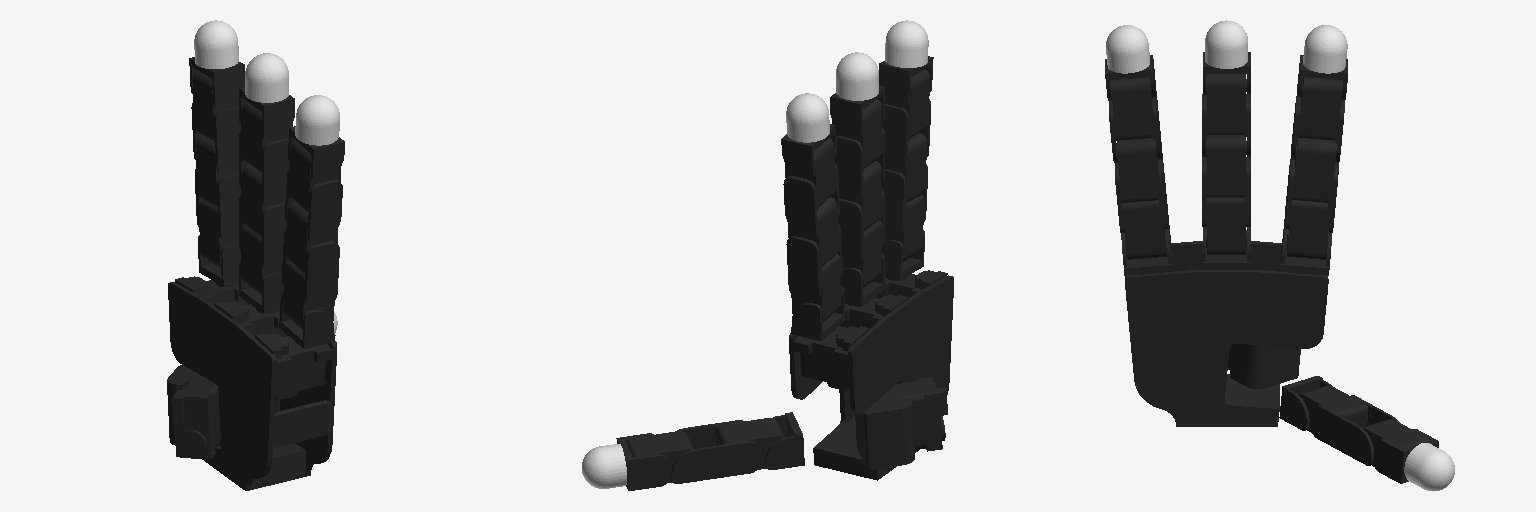
The robot description file, URDF, robot "allegro_hand_right":
<?xml version="1.0" ?>
<!-- =================================================================================== -->
<!-- |    This document was autogenerated by xacro from allegro_hand_description_right.xacro | -->
<!-- |    EDITING THIS FILE BY HAND IS NOT RECOMMENDED                                 | -->
<!-- =================================================================================== -->
<robot name="allegro_hand_right" xmlns:xacro="http://www.ros.org/wiki/xacro">
  <!-- ======================== BASE PARAMS ========================= -->
  <!-- ======================== FINGER PARAMS ======================== -->
  <!-- full height from joint to tip. when used,
    the radius of the finger tip sphere will be subtracted
    and one fixed link will be added for the tip. -->
  <!-- ========================= THUMB PARAMS ========================= -->
  <!-- ========================= LIMITS ========================= -->
  <!-- ============================================================================= -->
  <!-- BASE -->
  <link name="base_link">
    <visual>
      <geometry>
        <mesh filename="allegro/meshes/allegro/base_link.obj"/>
      </geometry>
      <origin rpy="0 0 0" xyz="0 0 0 "/>
      <material name="black">
        <color rgba="0.2 0.2 0.2 1"/>
      </material>
    </visual>
    <collision>
      <origin rpy="0 0 0" xyz="-0.009300 0 -0.0475"/>
      <geometry>
        <!-- <box size="0.0408 0.1130 0.095"/> -->
        <box size="0.01 0.01 0.01"/>
      </geometry>
    </collision>
    <inertial>
      <origin xyz="0 0 0.0475" rpy="0 0 0"/>
      <mass value="0.4154"/>
      <inertia ixx="1e-4" ixy="0.0" ixz="0.0" iyy="1e-4" iyz="0.0" izz="1e-4"/>
    </inertial>
  </link>
  <!-- ============================================================================= -->
  <!-- FINGERS -->
  <!-- RIGHT HAND due to which finger is number 0 -->
  <!-- for LEFT HAND switch the sign of the **offset_origin_y** and **finger_angle_r** parameters-->
  <link name="link_0.0">
    <visual>
      <geometry>
        <mesh filename="allegro/meshes/allegro/link_0.0.obj"/>
      </geometry>
      <material name="black"/>
    </visual>
    <collision>
      <geometry>
        <box size="0.0196 0.0275 0.0164"/>
      </geometry>
      <origin rpy="0 0 0" xyz="0 0 0.0082"/>
    </collision>
    <inertial>
      <mass value="0.0119" />
      <origin xyz="0 0 0" rpy="0 0 0"/>
      <inertia ixx="1.01666658333e-06" ixy="0.0" ixz="0.0"
               iyy="6.47677333333e-07" iyz="0.0"
               izz="1.01666658333e-06" />
    </inertial>
  </link>
  <joint name="joint_0.0" type="revolute">
    <axis xyz="0 0 1"/>
    <limit effort="0.35" lower="-0.47" upper="0.47" velocity="6.283"/>
    <parent link="base_link"/>
    <child link="link_0.0"/>
    <origin rpy="-0.08726646255 0 0" xyz="0 0.0435 -0.001542"/>
  </joint>
  <link name="link_1.0">
    <visual>
      <geometry>
        <mesh filename="allegro/meshes/allegro/link_1.0.obj"/>
      </geometry>
      <material name="black"/>
    </visual>
    <collision>
      <geometry>
        <box size="0.0196 0.0275 0.054"/>
      </geometry>
      <origin rpy="0 0 0" xyz="0 0 0.027"/>
    </collision>
    <inertial>
      <mass value="0.065" />
      <origin xyz="0 0 0" rpy="0 0 0"/>
      <inertia ixx="7.95654166667e-05" ixy="1.7199e-05" ixz="8.75875e-06"
               iyy="2.47088833333e-05" iyz="2.413125e-05"
               izz="7.95654166667e-05" />
    </inertial>
  </link>
  <joint name="joint_1.0" type="revolute">
    <limit effort="0.35" lower="-0.196" upper="1.61" velocity="6.283"/>
    <axis xyz="0 1 0"/>
    <parent link="link_0.0"/>
    <child link="link_1.0"/>
    <origin xyz="0 0 0.0164"/>
  </joint>
  <link name="link_2.0">
    <visual>
      <geometry>
        <mesh filename="allegro/meshes/allegro/link_2.0.obj"/>
      </geometry>
      <material name="black"/>
    </visual>
    <collision>
      <geometry>
        <box size="0.0196 0.0275 0.0384"/>
      </geometry>
      <origin rpy="0 0 0" xyz="0 0 0.0192"/>
    </collision>
    <inertial>
      <mass value="0.0355" />
      <origin xyz="0 0 0" rpy="0 0 0"/>
      <inertia ixx="2.63979183333e-05" ixy="6.67968e-06" ixz="4.783625e-06"
               iyy="1.34948516667e-05" iyz="9.372e-06"
               izz="2.63979183333e-05" />
    </inertial>
  </link>
  <joint name="joint_2.0" type="revolute">
    <axis xyz="0 1 0"/>
    <limit effort="0.35" lower="-0.174" upper="1.709" velocity="6.283"/>
    <parent link="link_1.0"/>
    <child link="link_2.0"/>
    <origin xyz="0 0 0.054"/>
  </joint>
  <link name="link_3.0">
    <visual>
      <geometry>
        <mesh filename="allegro/meshes/allegro/link_3.0.obj"/>
      </geometry>
      <material name="black"/>
    </visual>
    <collision>
      <geometry>
        <sphere radius="0.0001"/>
      </geometry>
      <origin rpy="0 0 0" xyz="0 0 0.01335"/>
    </collision>
    <inertial>
      <mass value="0.0096" />
      <origin xyz="0 0 0" rpy="0 0 0"/>
      <inertia ixx="4.701248e-06" ixy="1.255968e-06" ixz="1.2936e-06"
               iyy="3.649312e-06" iyz="1.7622e-06"
               izz="4.701248e-06" />
    </inertial>
  </link>
  <joint name="joint_3.0" type="revolute">
    <axis xyz="0 1 0"/>
    <limit effort="0.35" lower="-0.227" upper="1.618" velocity="6.283"/>
    <parent link="link_2.0"/>
    <child link="link_3.0"/>
    <origin xyz="0 0 0.0384"/>
  </joint>
  <link name="link_3.0_tip">
    <visual>
      <geometry>
        <mesh filename="allegro/meshes/allegro/link_3.0_tip.obj"/>
      </geometry>
      <material name="white">
        <color rgba=".9 .9 .9 1"/>
      </material>
    </visual>
    <collision>
      <geometry>
        <sphere radius="0.012"/>
      </geometry>
    </collision>
    <inertial>
      <mass value="0.0168"/>
      <origin rpy="0 0 0" xyz="0 0 0"/>
      <inertia ixx="9.68e-07" ixy="0" ixz="0" iyy="9.68e-07" iyz="0" izz="9.68e-07"/>
    </inertial>
  </link>
  <joint name="joint_3.0_tip" type="fixed">
    <parent link="link_3.0"/>
    <child link="link_3.0_tip"/>
    <origin rpy="0 0 0" xyz="0 0 0.0267"/>
  </joint>
  <!-- [LINK 0, 4, 8] -->
  <link name="link_4.0">
    <visual>
      <geometry>
        <mesh filename="allegro/meshes/allegro/link_0.0.obj"/>
      </geometry>
      <material name="black"/>
    </visual>
    <collision>
      <geometry>
        <box size="0.0196 0.0275 0.0164"/>
      </geometry>
      <origin rpy="0 0 0" xyz="0 0 0.0082"/>
    </collision>
    <inertial>
      <mass value="0.0119" />
      <origin xyz="0 0 0" rpy="0 0 0"/>
      <inertia ixx="1.01666658333e-06" ixy="0.0" ixz="0.0"
               iyy="6.47677333333e-07" iyz="0.0"
               izz="1.01666658333e-06" />
    </inertial>
  </link>
  <joint name="joint_4.0" type="revolute">
    <axis xyz="0 0 1"/>
    <limit effort="0.35" lower="-0.47" upper="0.47" velocity="6.283"/>
    <parent link="base_link"/>
    <child link="link_4.0"/>
    <origin rpy="0.0 0 0" xyz="0 0 0.0007"/>
  </joint>
  <link name="link_5.0">
    <visual>
      <geometry>
        <mesh filename="allegro/meshes/allegro/link_1.0.obj"/>
      </geometry>
      <material name="black"/>
    </visual>
    <collision>
      <geometry>
        <box size="0.0196 0.0275 0.054"/>
      </geometry>
      <origin rpy="0 0 0" xyz="0 0 0.027"/>
    </collision>
    <inertial>
      <mass value="0.065" />
      <origin xyz="0 0 0" rpy="0 0 0"/>
      <inertia ixx="7.95654166667e-05" ixy="1.7199e-05" ixz="8.75875e-06"
               iyy="2.47088833333e-05" iyz="2.413125e-05"
               izz="7.95654166667e-05" />
    </inertial>
  </link>
  <joint name="joint_5.0" type="revolute">
    <limit effort="0.35" lower="-0.196" upper="1.61" velocity="6.283"/>
    <axis xyz="0 1 0"/>
    <parent link="link_4.0"/>
    <child link="link_5.0"/>
    <origin xyz="0 0 0.0164"/>
  </joint>
  <link name="link_6.0">
    <visual>
      <geometry>
        <mesh filename="allegro/meshes/allegro/link_2.0.obj"/>
      </geometry>
      <material name="black"/>
    </visual>
    <collision>
      <geometry>
        <box size="0.0196 0.0275 0.0384"/>
      </geometry>
      <origin rpy="0 0 0" xyz="0 0 0.0192"/>
    </collision>
    <inertial>
      <mass value="0.0355" />
      <origin xyz="0 0 0" rpy="0 0 0"/>
      <inertia ixx="2.63979183333e-05" ixy="6.67968e-06" ixz="4.783625e-06"
               iyy="1.34948516667e-05" iyz="9.372e-06"
               izz="2.63979183333e-05" />
    </inertial>
  </link>
  <joint name="joint_6.0" type="revolute">
    <axis xyz="0 1 0"/>
    <limit effort="0.35" lower="-0.174" upper="1.709" velocity="6.283"/>
    <parent link="link_5.0"/>
    <child link="link_6.0"/>
    <origin xyz="0 0 0.054"/>
  </joint>
  <link name="link_7.0">
    <visual>
      <geometry>
        <mesh filename="allegro/meshes/allegro/link_3.0.obj"/>
      </geometry>
      <material name="black"/>
    </visual>
    <collision>
      <geometry>
        <sphere radius="0.0001"/>
      </geometry>
      <origin rpy="0 0 0" xyz="0 0 0.01335"/>
    </collision>
    <inertial>
      <mass value="0.0096" />
      <origin xyz="0 0 0" rpy="0 0 0"/>
      <inertia ixx="4.701248e-06" ixy="1.255968e-06" ixz="1.2936e-06"
               iyy="3.649312e-06" iyz="1.7622e-06"
               izz="4.701248e-06" />
    </inertial>
  </link>
  <joint name="joint_7.0" type="revolute">
    <axis xyz="0 1 0"/>
    <limit effort="0.35" lower="-0.227" upper="1.618" velocity="6.283"/>
    <parent link="link_6.0"/>
    <child link="link_7.0"/>
    <origin xyz="0 0 0.0384"/>
  </joint>
  <link name="link_7.0_tip">
    <visual>
      <geometry>
        <mesh filename="allegro/meshes/allegro/link_3.0_tip.obj"/>
      </geometry>
      <material name="white">
        <color rgba=".9 .9 .9 1"/>
      </material>
    </visual>
    <collision>
      <geometry>
        <sphere radius="0.012"/>
      </geometry>
    </collision>
    <inertial>
      <mass value="0.0168" />
      <origin xyz="0 0 0" rpy="0 0 0"/>
      <inertia ixx="9.68e-07" ixy="0" ixz="0"
               iyy="9.68e-07" iyz="0"
               izz="9.68e-07" />
     </inertial>
  </link>
  <joint name="joint_7.0_tip" type="fixed">
    <parent link="link_7.0"/>
    <child link="link_7.0_tip"/>
    <origin rpy="0 0 0" xyz="0 0 0.0267"/>
  </joint>
  <link name="link_8.0">
    <visual>
      <geometry>
        <mesh filename="allegro/meshes/allegro/link_0.0.obj"/>
      </geometry>
      <material name="black"/>
    </visual>
    <collision>
      <geometry>
        <box size="0.0196 0.0275 0.0164"/>
      </geometry>
      <origin rpy="0 0 0" xyz="0 0 0.0082"/>
    </collision>
    <inertial>
      <mass value="0.0119" />
      <origin xyz="0 0 0" rpy="0 0 0"/>
      <inertia ixx="1.01666658333e-06" ixy="0.0" ixz="0.0"
               iyy="6.47677333333e-07" iyz="0.0"
               izz="1.01666658333e-06" />
    </inertial>
  </link>
  <joint name="joint_8.0" type="revolute">
    <axis xyz="0 0 1"/>
    <limit effort="0.35" lower="-0.47" upper="0.47" velocity="6.283"/>
    <parent link="base_link"/>
    <child link="link_8.0"/>
    <origin rpy="0.08726646255 0 0" xyz="0 -0.0435 -0.001542"/>
  </joint>
  <link name="link_9.0">
    <visual>
      <geometry>
        <mesh filename="allegro/meshes/allegro/link_1.0.obj"/>
      </geometry>
      <material name="black"/>
    </visual>
    <collision>
      <geometry>
        <box size="0.0196 0.0275 0.054"/>
      </geometry>
      <origin rpy="0 0 0" xyz="0 0 0.027"/>
    </collision>
    <inertial>
      <mass value="0.065" />
      <origin xyz="0 0 0" rpy="0 0 0"/>
      <inertia ixx="7.95654166667e-05" ixy="1.7199e-05" ixz="8.75875e-06"
               iyy="2.47088833333e-05" iyz="2.413125e-05"
               izz="7.95654166667e-05" />
    </inertial>
  </link>
  <joint name="joint_9.0" type="revolute">
    <limit effort="0.35" lower="-0.196" upper="1.61" velocity="6.283"/>
    <axis xyz="0 1 0"/>
    <parent link="link_8.0"/>
    <child link="link_9.0"/>
    <origin xyz="0 0 0.0164"/>
  </joint>
  <link name="link_10.0">
    <visual>
      <geometry>
        <mesh filename="allegro/meshes/allegro/link_2.0.obj"/>
      </geometry>
      <material name="black"/>
    </visual>
    <collision>
      <geometry>
        <box size="0.0196 0.0275 0.0384"/>
      </geometry>
      <origin rpy="0 0 0" xyz="0 0 0.0192"/>
    </collision>
    <inertial>
      <mass value="0.0355" />
      <origin xyz="0 0 0" rpy="0 0 0"/>
      <inertia ixx="2.63979183333e-05" ixy="6.67968e-06" ixz="4.783625e-06"
               iyy="1.34948516667e-05" iyz="9.372e-06"
               izz="2.63979183333e-05" />
    </inertial>
  </link>
  <joint name="joint_10.0" type="revolute">
    <axis xyz="0 1 0"/>
    <limit effort="0.35" lower="-0.174" upper="1.709" velocity="6.283"/>
    <parent link="link_9.0"/>
    <child link="link_10.0"/>
    <origin xyz="0 0 0.054"/>
  </joint>
  <link name="link_11.0">
    <visual>
      <geometry>
        <mesh filename="allegro/meshes/allegro/link_3.0.obj"/>
      </geometry>
      <material name="black"/>
    </visual>
    <collision>
      <geometry>
        <sphere radius="0.0001"/>
      </geometry>
      <origin rpy="0 0 0" xyz="0 0 0.01335"/>
    </collision>
    <inertial>
      <mass value="0.0096" />
      <origin xyz="0 0 0" rpy="0 0 0"/>
      <inertia ixx="4.701248e-06" ixy="1.255968e-06" ixz="1.2936e-06"
               iyy="3.649312e-06" iyz="1.7622e-06"
               izz="4.701248e-06" />
    </inertial>
  </link>
  <joint name="joint_11.0" type="revolute">
    <axis xyz="0 1 0"/>
    <limit effort="0.35" lower="-0.227" upper="1.618" velocity="6.283"/>
    <parent link="link_10.0"/>
    <child link="link_11.0"/>
    <origin xyz="0 0 0.0384"/>
  </joint>
  <link name="link_11.0_tip">
    <visual>
      <geometry>
        <mesh filename="allegro/meshes/allegro/link_3.0_tip.obj"/>
      </geometry>
      <material name="white">
        <color rgba=".9 .9 .9 1"/>
      </material>
    </visual>
    <collision>
      <geometry>
        <sphere radius="0.012"/>
      </geometry>
    </collision>
    <inertial>
      <mass value="0.0168" />
      <origin xyz="0 0 0" rpy="0 0 0"/>
      <inertia ixx="9.68e-07" ixy="0" ixz="0"
               iyy="9.68e-07" iyz="0"
               izz="9.68e-07" />
     </inertial>
  </link>
  <joint name="joint_11.0_tip" type="fixed">
    <parent link="link_11.0"/>
    <child link="link_11.0_tip"/>
    <origin rpy="0 0 0" xyz="0 0 0.0267"/>
  </joint>
  <!-- THUMB -->
  <link name="link_12.0">
    <visual>
      <geometry>
        <mesh filename="allegro/meshes/allegro/link_12.0_right.obj"/>
      </geometry>
      <material name="black">
        <color rgba=".2 .2 .2 1"/>
      </material>
      <origin rpy="3.1415926518 0 0" xyz="0 0 0"/>
    </visual>
    <collision>
      <geometry>
        <box size="0.0358 0.034 0.0455"/>
      </geometry>
      <origin rpy="0 0 0" xyz="-0.0179 0.009 0.0145"/>
    </collision>
    <inertial>
      <mass value="0.0176" />
      <origin xyz="0 0 0" rpy="0 0 0"/>
      <inertia ixx="1.89273333333e-5" ixy="7.16716e-06" ixz="5.35568e-06"
               iyy="1.43008213333e-05" iyz="6.8068e-06"
               izz="1.89273333333e-05" />
    </inertial>
  </link>
  <joint name="joint_12.0" type="revolute">
    <axis xyz="-1 0 0"/>
    <limit effort="0.35" lower="0.263" upper="1.396" velocity="6.283"/>
    <parent link="base_link"/>
    <child link="link_12.0"/>
    <origin rpy="0 -1.65806278845 -1.5707963259" xyz="-0.0182 0.019333 -0.045987"/>
  </joint>
  <link name="link_13.0">
    <visual>
      <geometry>
        <mesh filename="allegro/meshes/allegro/link_13.0.obj"/>
      </geometry>
      <material name="black">
        <color rgba=".2 .2 .2 1"/>
      </material>
    </visual>
    <collision>
      <geometry>
        <box size="0.0196 0.0275 0.0177"/>
      </geometry>
      <origin rpy="0 0 0" xyz="0 0 0.00885"/>
    </collision>
    <inertial>
      <mass value="0.0119" />
      <origin xyz="0 0 0" rpy="0 0 0"/>
      <inertia ixx="4.24250866667e-06" ixy="1.032087e-06" ixz="1.603525e-06"
               iyy="4.52362633333e-06" iyz="1.44808125e-06"
               izz="4.24250866667e-06" />
    </inertial>
  </link>
  <joint name="joint_13.0" type="revolute">
    <axis xyz="0 0 1"/>
    <limit effort="0.35" lower="-0.105" upper="1.163" velocity="6.283"/>
    <parent link="link_12.0"/>
    <child link="link_13.0"/>
    <!-- RIGHT -->
    <origin xyz="-0.027 0.005 0.0399"/>
    <!-- LEFT -->
    <!-- <origin xyz="-0.027 -0.005 0.0399"/> -->
  </joint>
  <link name="link_14.0">
    <visual>
      <geometry>
        <mesh filename="allegro/meshes/allegro/link_14.0.obj"/>
      </geometry>
      <material name="black">
      </material>
    </visual>
    <collision>
      <geometry>
        <box size="0.0196 0.0275 0.0514"/>
      </geometry>
      <origin rpy="0 0 0" xyz="0 0 0.0257"/>
    </collision>
    <inertial>
      <mass value="0.038" />
      <origin xyz="0 0 0" rpy="0 0 0"/>
      <inertia ixx="4.30439933333e-05" ixy="9.57068e-06" ixz="5.1205e-06" iyy="1.44451933333e-05"
               iyz="1.342825e-05" izz="4.30439933333e-05" />
    </inertial>
  </link>
  <joint name="joint_14.0" type="revolute">
    <axis xyz="0 1 0"/>
    <limit effort="0.35" lower="-0.189" upper="1.644" velocity="6.283"/>
    <parent link="link_13.0"/>
    <child link="link_14.0"/>
    <origin xyz="0 0 0.0177"/>
  </joint>
  <link name="link_15.0">
    <visual>
      <geometry>
        <mesh filename="allegro/meshes/allegro/link_15.0.obj"/>
      </geometry>
      <material name="black">
      </material>
    </visual>
    <collision>
      <geometry>
        <sphere radius="0.0001"/>
      </geometry>
      <origin rpy="0 0 0" xyz="0 0 0.02115"/>
    </collision>
    <inertial>
      <mass value="0.0388" />
      <origin xyz="0 0 0" rpy="0 0 0"/>
      <inertia ixx="3.29223173333e-05" ixy="8.042076e-06" ixz="5.2283e-06"
               iyy="1.47493026667e-5" iyz="1.1283525e-5"
               izz="3.29223173333e-05" />
    </inertial>
  </link>
  <joint name="joint_15.0" type="revolute">
    <axis xyz="0 1 0"/>
    <limit effort="0.35" lower="-0.162" upper="1.719" velocity="6.283"/>
    <parent link="link_14.0"/>
    <child link="link_15.0"/>
    <origin xyz="0 0 0.0514"/>
  </joint>
  <link name="link_15.0_tip">
    <visual>
      <geometry>
        <mesh filename="allegro/meshes/allegro/link_15.0_tip.obj"/>
      </geometry>
      <material name="white">
        <color rgba=".9 .9 .9 1"/>
      </material>
    </visual>
    <collision>
      <geometry>
        <sphere radius="0.012"/>
      </geometry>
      <origin rpy="0 0 0" xyz="0 0 0"/>
    </collision>
    <inertial>
      <mass value="0.0168"/>
      <origin rpy="0 0 0" xyz="0 0 0"/>
      <inertia ixx="9.68e-07" ixy="0" ixz="0" iyy="9.68e-07" iyz="0" izz="9.68e-07"/>
    </inertial>
  </link>
  <joint name="joint_15.0_tip" type="fixed">
    <parent link="link_15.0"/>
    <child link="link_15.0_tip"/>
    <origin rpy="0 0 0" xyz="0 0 0.0423"/>
  </joint>
  <!-- ============================================================================= -->
  <!-- THUMB MACRO -->
  <!-- END THUMB MACRO -->
  <!-- THREE FINGER MACRO -->
  <!-- [[END]] THREE FINGER MACRO -->
</robot>

--- Facts derived from the render (not from the file) ---
3 views of the same robot in one strip: view 1: azimuth 30°, elevation 25°; view 2: azimuth 150°, elevation 25°; view 3: azimuth 270°, elevation 25° (orthographic).
Model allegro_hand_right with 21 links and 20 joints (16 revolute, 4 fixed), rooted at base_link, posed joints at zero except 1 at the middle of their limits (joint_12.0 = 0.8295).
Links seen in each view (by area): view 1: base_link, link_9.0, link_12.0, link_5.0, link_1.0, link_10.0, link_6.0, link_2.0, link_11.0_tip, link_7.0_tip, link_3.0_tip, link_8.0 (+5 smaller); view 2: base_link, link_12.0, link_14.0, link_1.0, link_5.0, link_9.0, link_2.0, link_15.0, link_6.0, link_10.0, link_3.0_tip, link_7.0_tip (+9 smaller); view 3: base_link, link_1.0, link_9.0, link_5.0, link_14.0, link_2.0, link_10.0, link_6.0, link_12.0, link_15.0, link_15.0_tip, link_3.0_tip (+9 smaller).
Link boxes in pixels (x1=…): base_link: x1=168, y1=276, x2=336, y2=490; link_9.0: x1=282, y1=201, x2=339, y2=329; link_12.0: x1=167, y1=365, x2=220, y2=459; link_5.0: x1=239, y1=164, x2=286, y2=294; link_1.0: x1=195, y1=135, x2=240, y2=267; link_10.0: x1=285, y1=140, x2=342, y2=244; link_6.0: x1=239, y1=101, x2=292, y2=205; link_2.0: x1=191, y1=71, x2=240, y2=174; link_11.0_tip: x1=295, y1=95, x2=339, y2=145; link_7.0_tip: x1=245, y1=53, x2=288, y2=102; link_3.0_tip: x1=194, y1=20, x2=238, y2=68; link_8.0: x1=279, y1=293, x2=335, y2=348; base_link: x1=789, y1=270, x2=953, y2=480; link_12.0: x1=855, y1=377, x2=947, y2=469; link_14.0: x1=671, y1=418, x2=784, y2=483; link_1.0: x1=786, y1=197, x2=842, y2=321; link_5.0: x1=838, y1=161, x2=884, y2=287; link_9.0: x1=882, y1=133, x2=927, y2=261; link_2.0: x1=783, y1=138, x2=839, y2=239; link_15.0: x1=616, y1=431, x2=693, y2=490; link_6.0: x1=832, y1=99, x2=884, y2=201; link_10.0: x1=882, y1=70, x2=930, y2=171; link_3.0_tip: x1=786, y1=93, x2=829, y2=142; link_7.0_tip: x1=836, y1=52, x2=878, y2=100; base_link: x1=1125, y1=241, x2=1328, y2=426; link_1.0: x1=1284, y1=138, x2=1338, y2=259; link_9.0: x1=1115, y1=138, x2=1168, y2=259; link_5.0: x1=1202, y1=135, x2=1250, y2=254; link_14.0: x1=1299, y1=385, x2=1399, y2=465; link_2.0: x1=1291, y1=77, x2=1344, y2=162; link_10.0: x1=1109, y1=77, x2=1162, y2=162; link_6.0: x1=1202, y1=74, x2=1250, y2=156; link_12.0: x1=1228, y1=344, x2=1300, y2=388; link_15.0: x1=1362, y1=419, x2=1438, y2=483; link_15.0_tip: x1=1404, y1=443, x2=1454, y2=491; link_3.0_tip: x1=1303, y1=25, x2=1347, y2=73.
Bounding box of the posed robot: 0.1676 × 0.1948 × 0.2432 m (x, y, z).
Meshes: 11 distinct files referenced, 21 mesh visuals loaded (11 OBJ).